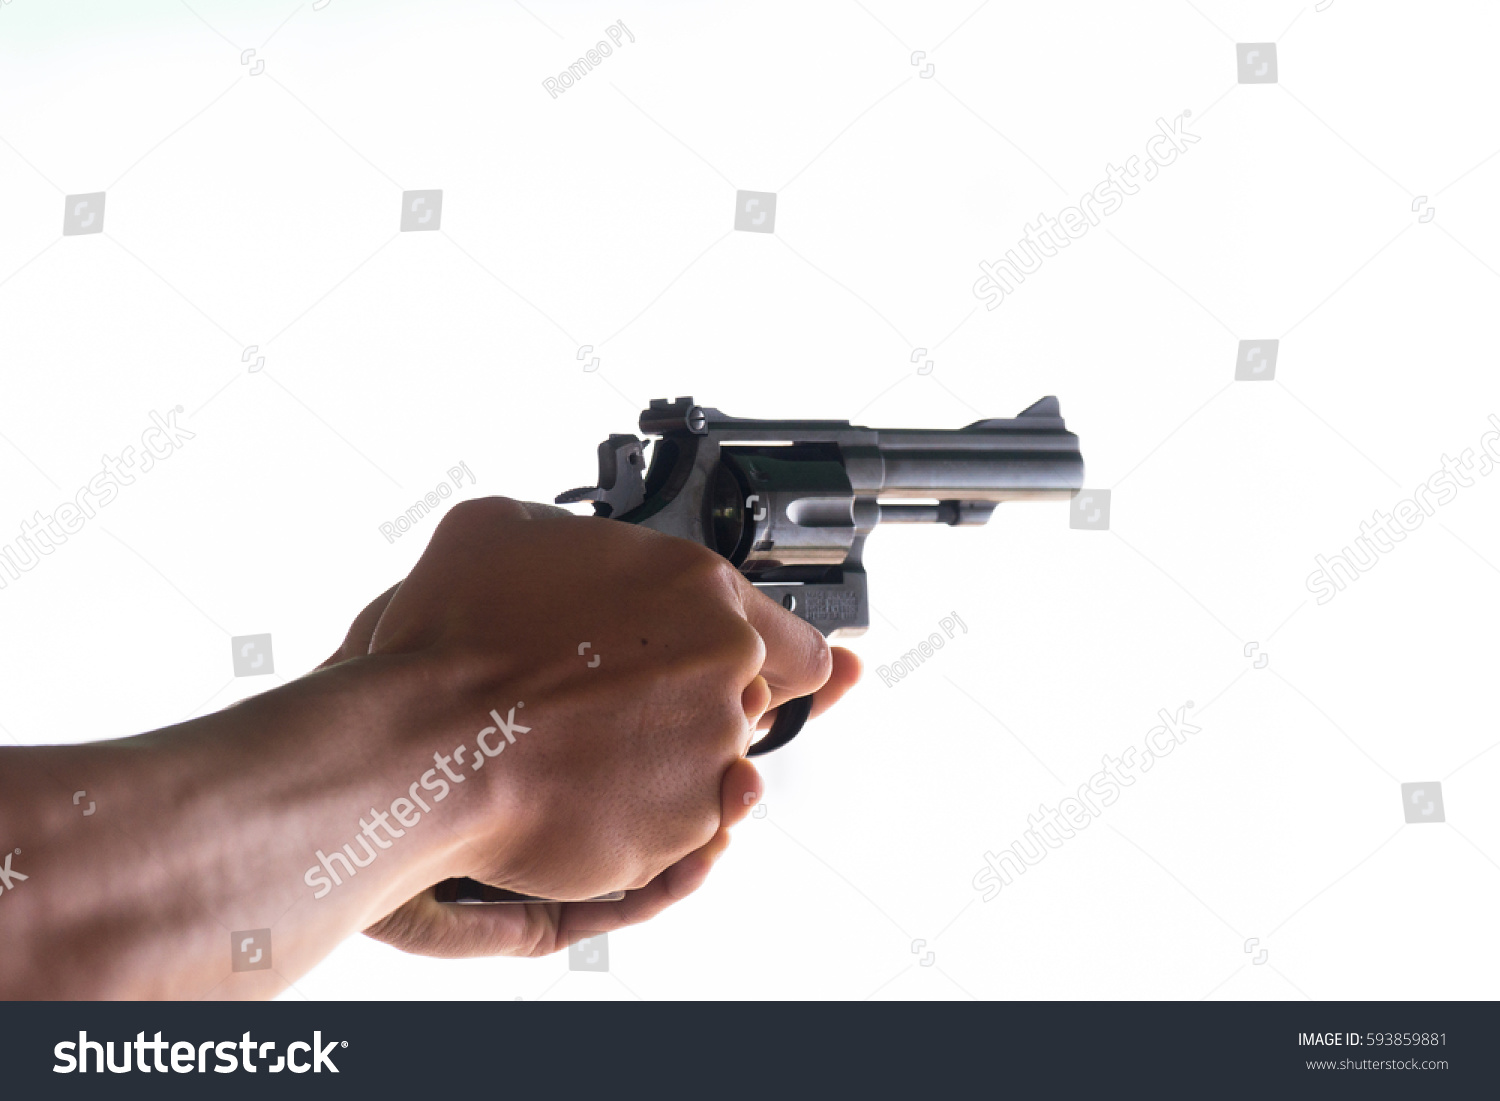pistol: (321, 292, 1179, 979)
